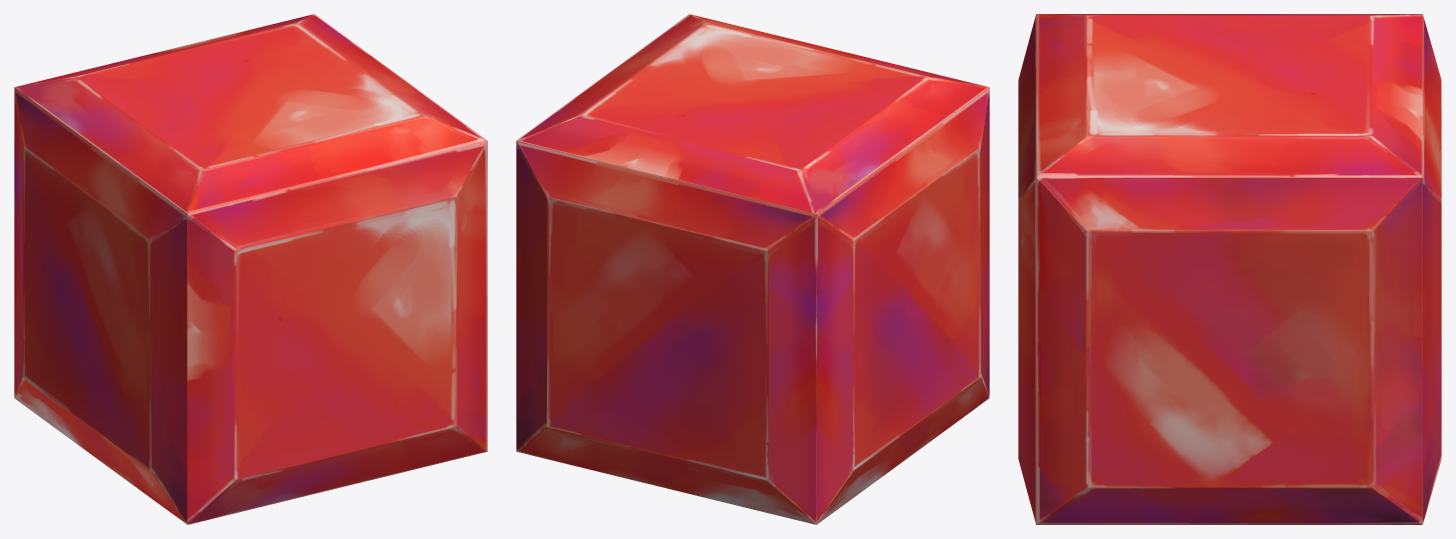
Rendered from red.FBX.
3 views of the same model, side by side, from view 1: azimuth 30°, elevation 25°; view 2: azimuth 150°, elevation 25°; view 3: azimuth 270°, elevation 25° (orthographic). The views are drawn at different scales.
Parts seen in each view (by area): view 1: Box055; view 2: Box055; view 3: Box055.
Boxes of the visible parts, x1,y1,x2,y2 form: Box055: (14, 14, 487, 524); Box055: (516, 14, 989, 524); Box055: (1018, 14, 1441, 524).
Bounding box in the file's own units: 0.997 × 0.9956 × 0.996.
1 material, 1 textured.
